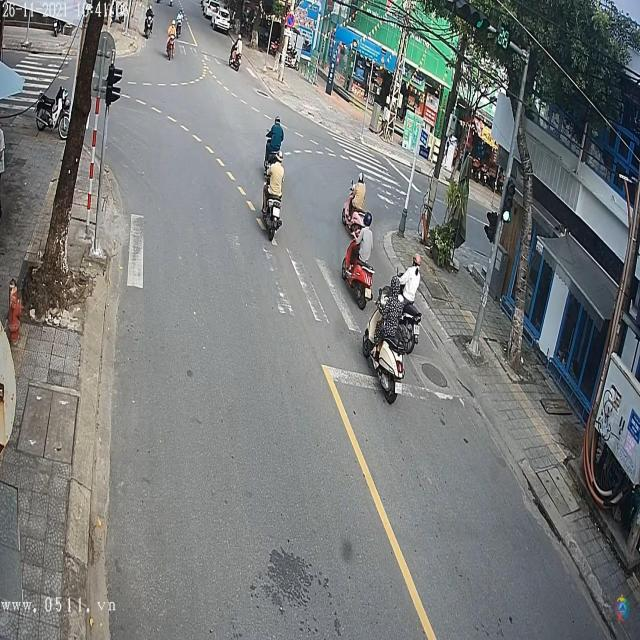motorcycle: (361, 289, 406, 405), (341, 224, 373, 311), (34, 88, 71, 138), (261, 171, 283, 245), (228, 41, 242, 72)
